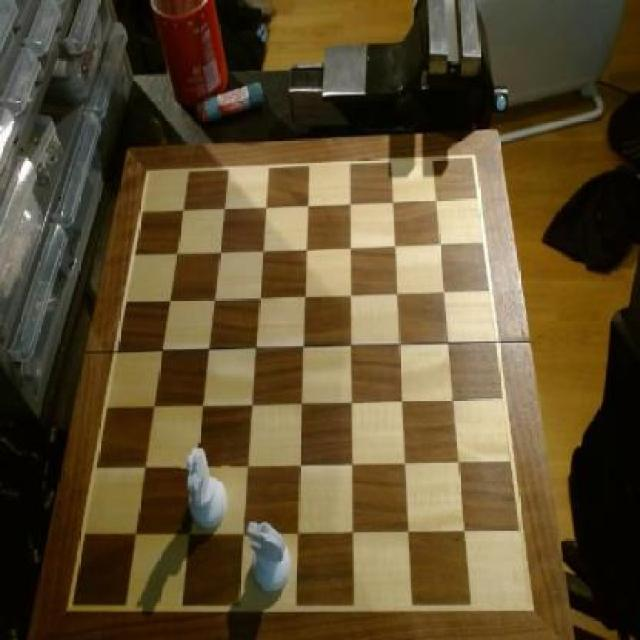white-king: (182, 443, 232, 533), (245, 517, 293, 595)
